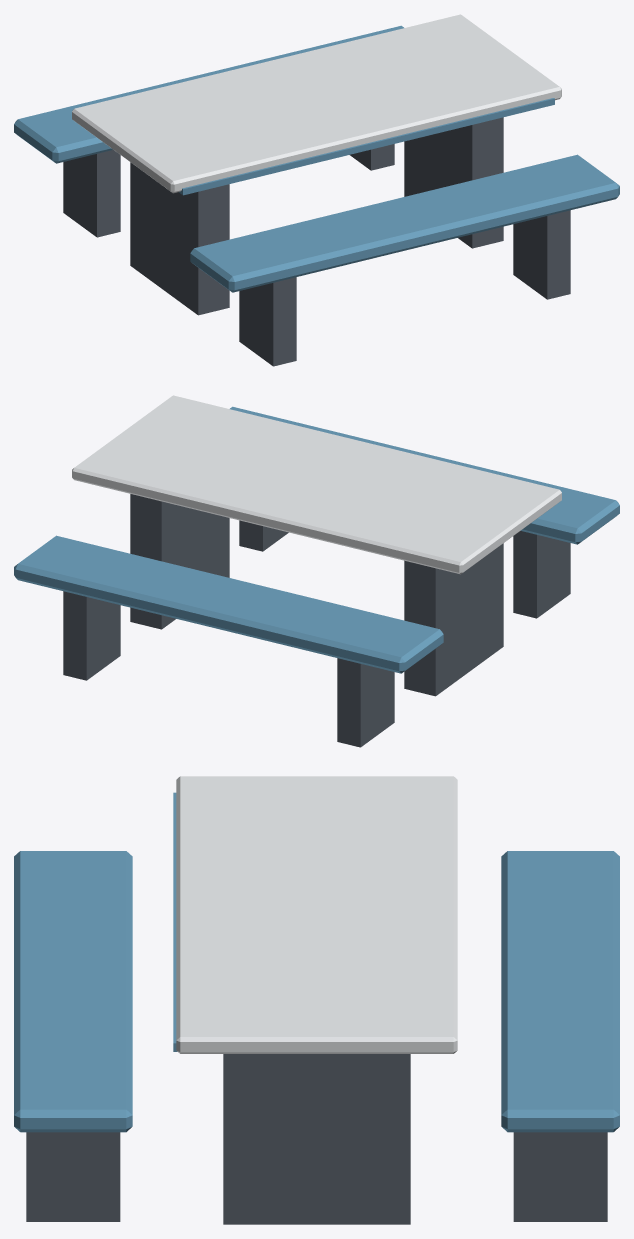
Rendered from spaceship-deck-kit-mess-table-2e081c0b__12583.glb.
3 renders of one model, top to bottom at view 1: azimuth 30°, elevation 25°; view 2: azimuth 150°, elevation 25°; view 3: azimuth 270°, elevation 25°, orthographic. The views are drawn at different scales.
Visible parts, largest first — view 1: mess-table; view 2: mess-table; view 3: mess-table.
Part boxes in pixels (x1=…): mess-table: x1=14, y1=14, x2=619, y2=366; mess-table: x1=14, y1=395, x2=619, y2=747; mess-table: x1=14, y1=776, x2=619, y2=1224.
Size of the model in its own units: 2 by 0.7601 by 1.94.
